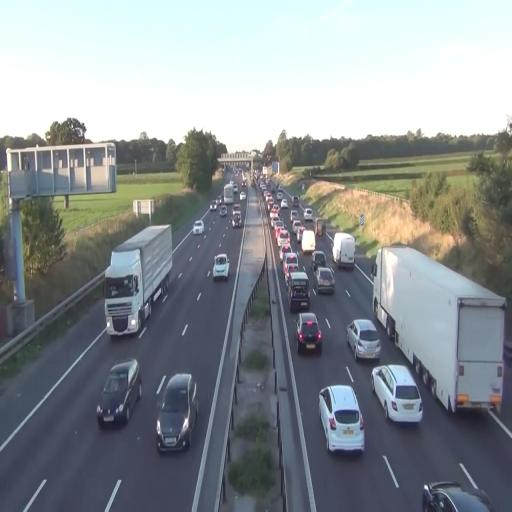vehicle: (372, 243, 507, 415), (104, 223, 174, 337), (104, 223, 173, 337), (155, 373, 198, 453), (318, 384, 364, 455), (421, 466, 495, 510), (96, 358, 142, 428), (372, 364, 422, 422), (346, 318, 380, 362), (296, 312, 322, 354), (288, 270, 311, 314), (332, 231, 356, 272), (314, 254, 336, 296), (315, 266, 336, 296), (212, 252, 230, 280), (282, 251, 298, 282), (193, 220, 204, 234)
